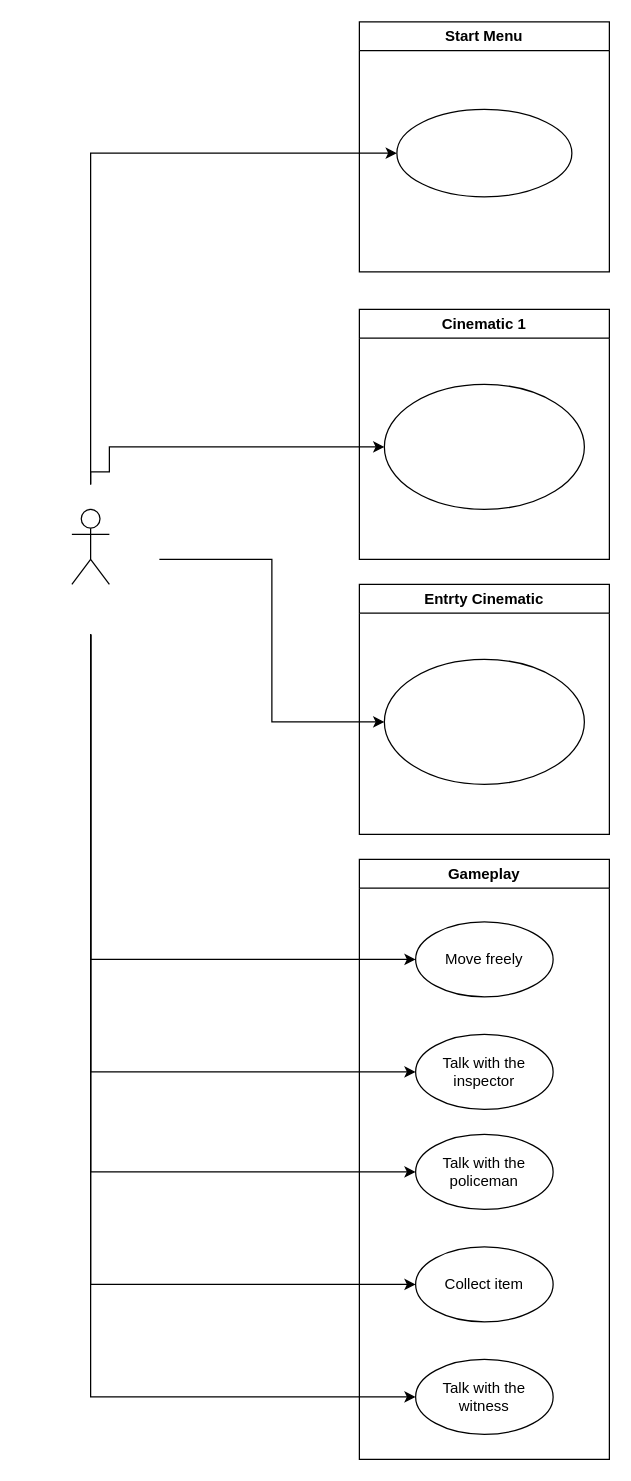
This 631x1481 diagram has some shape labels left out. Here are the shapes that lost their labels. From the top down, the centre of each, then its label:
point 484,152: Start the game
point 483,446: View and interact with the discussion of the cinematic
point 90,546: PLayer
point 483,721: View the entry cinematic
